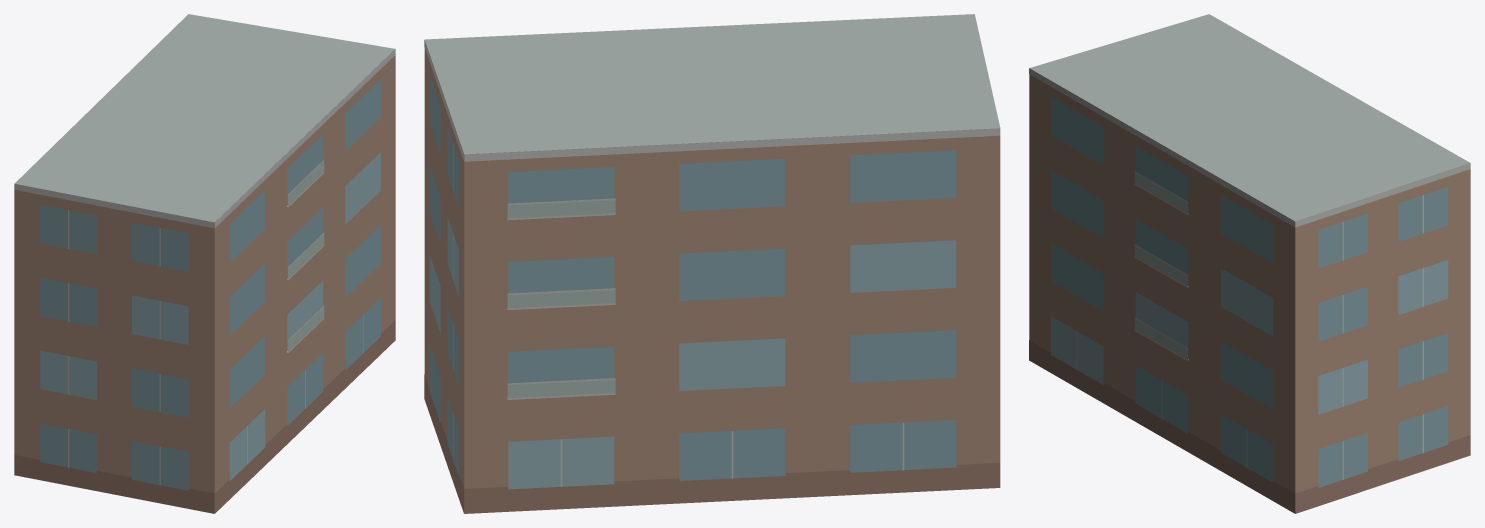
The model's file is survey-upis-32630665.glb.
3 renders of one model, left to right at view 1: azimuth 30°, elevation 25°; view 2: azimuth 150°, elevation 25°; view 3: azimuth 270°, elevation 25°, orthographic. The views are drawn at different scales.
Parts seen in each view (by area): view 1: survey-upis-32630665.tmp; view 2: survey-upis-32630665.tmp; view 3: survey-upis-32630665.tmp.
Part boxes in pixels (x1,y1,x2,y2): survey-upis-32630665.tmp: [14, 14, 395, 513]; survey-upis-32630665.tmp: [424, 14, 1000, 513]; survey-upis-32630665.tmp: [1029, 14, 1470, 513].
Bounding box in the file's own units: 18.13 × 11.9 × 16.3.
